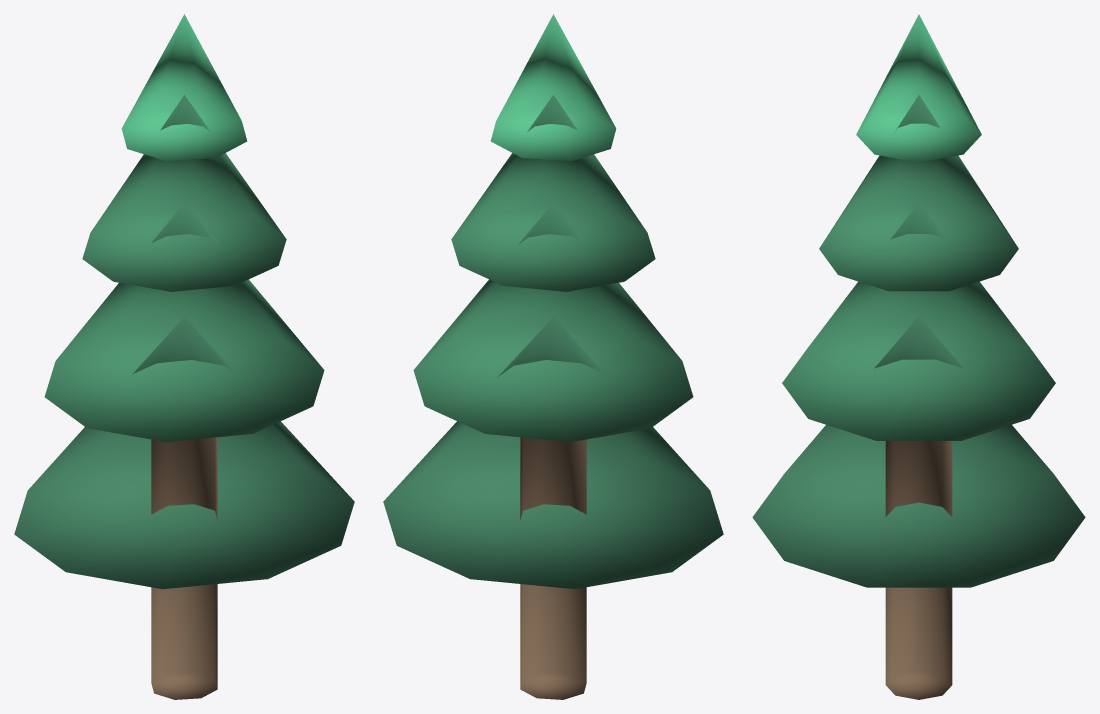
The model's file is pine-tree.glb.
3 renders of one model, left to right at view 1: azimuth 30°, elevation 25°; view 2: azimuth 150°, elevation 25°; view 3: azimuth 270°, elevation 25°, orthographic.
Parts seen in each view (by area): view 1: world; view 2: world; view 3: world.
Boxes of the visible parts, x1=… form: world: x1=14, y1=14, x2=354, y2=699; world: x1=383, y1=14, x2=723, y2=699; world: x1=752, y1=14, x2=1085, y2=699.
Bounding box in the file's own units: 4.5 × 10 × 4.5.
